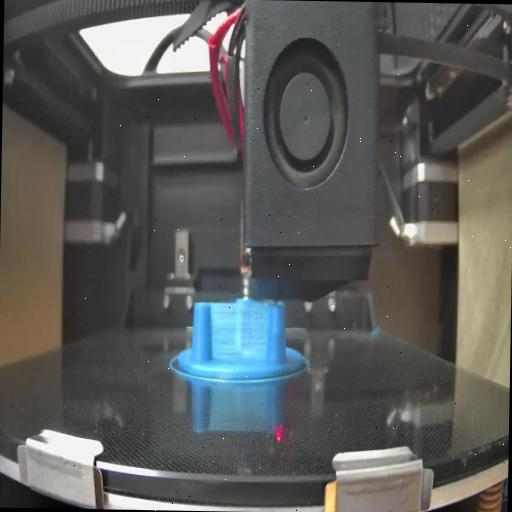stringing: (210, 302, 266, 360)
